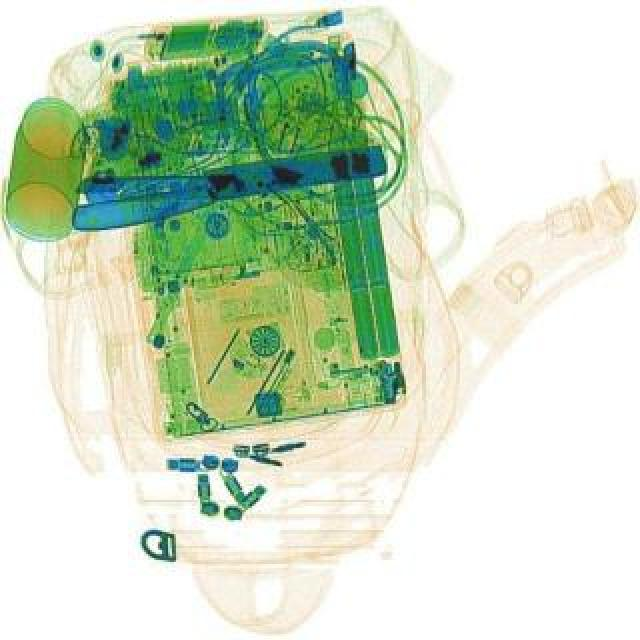knife: (66, 140, 388, 232)
